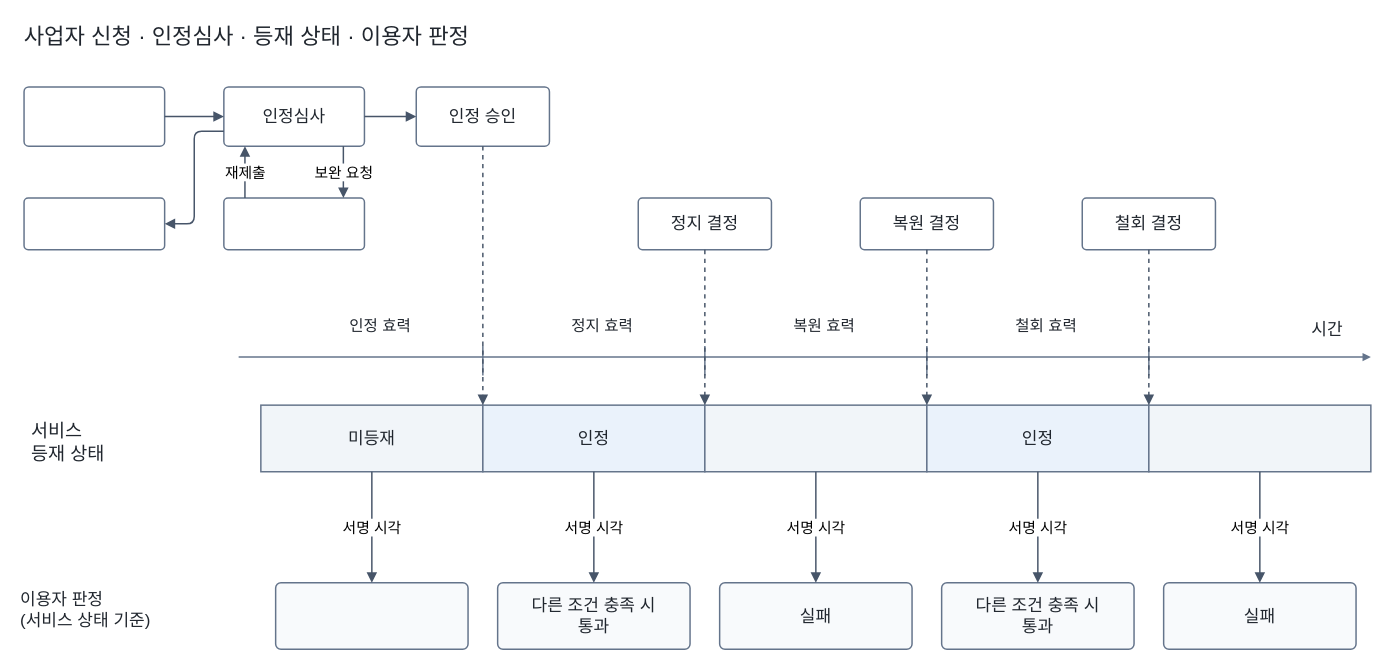
Image size: 1390x662. Some labels were removed from this diagram. The shapes that lost their labels are listed below. From the top down, each one's centre as x and y in pixels, then its label:
At (x=94, y=116): "사업자 인정 신청".
At (x=94, y=223): "반려".
At (x=294, y=223): "사업자 보완".
At (x=815, y=438): "정지".
At (x=1259, y=438): "철회".
At (x=371, y=616): "판단 보류".
